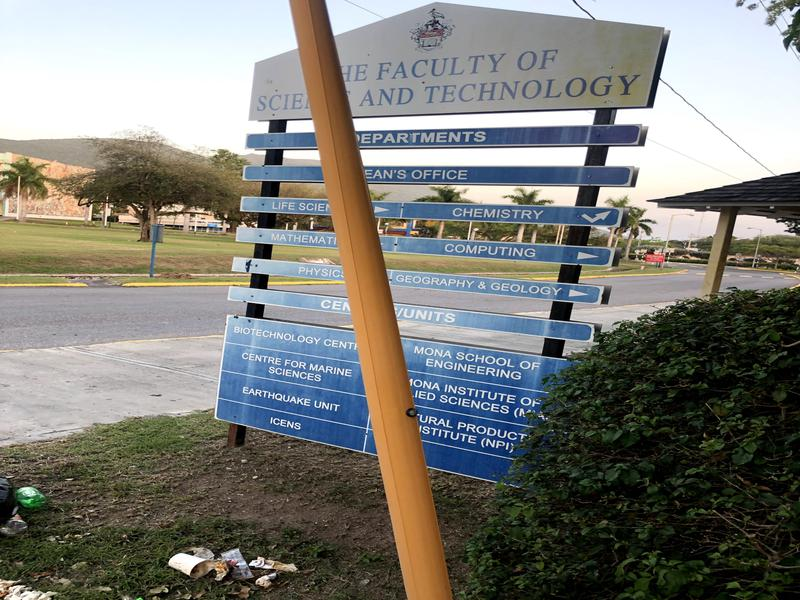18.0055634_-76.7484079_scitechsign: (212, 3, 669, 495)
